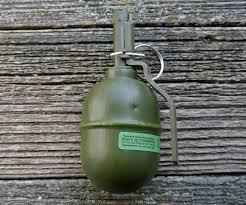RGD 5: (79, 11, 179, 193)
